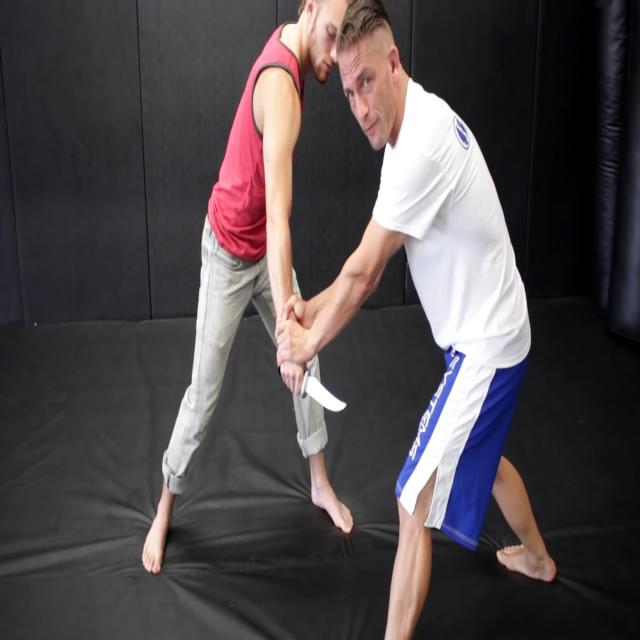knife: (304, 371, 350, 421)
